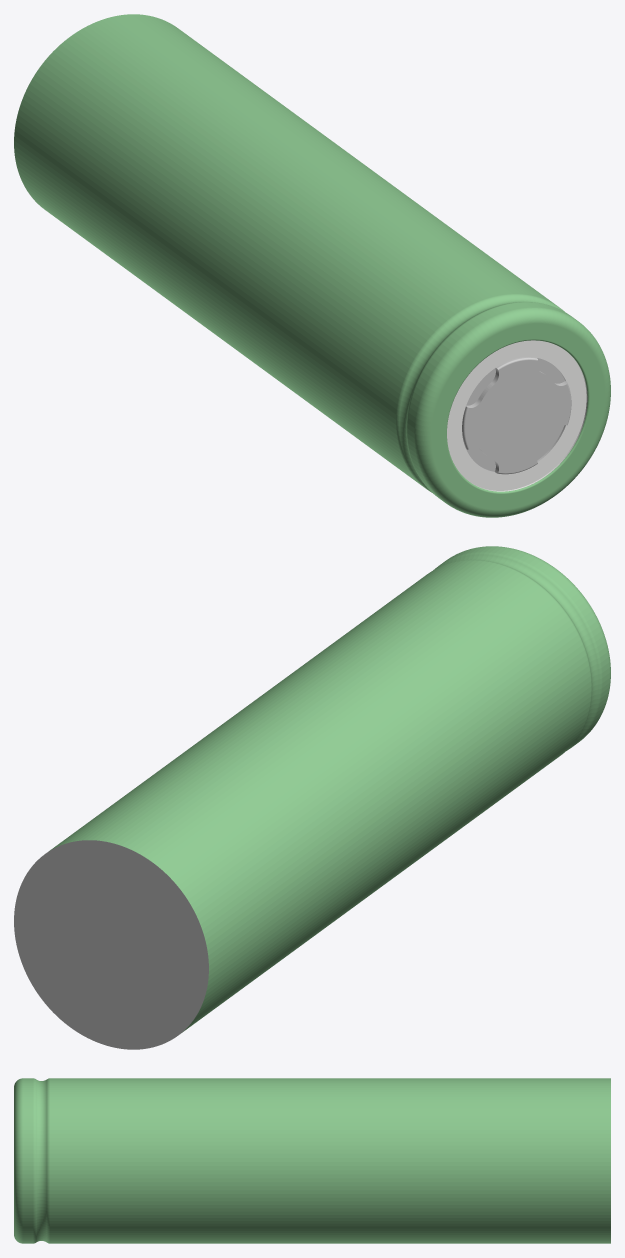
Rendered from 18650 Li-Ion.glb.
3 views of the same model, one above another, from view 1: azimuth 30°, elevation 25°; view 2: azimuth 150°, elevation 25°; view 3: azimuth 270°, elevation 25° (orthographic). The views are drawn at different scales.
Visible parts, largest first — view 1: Node2, Node1, Node3; view 2: Node2, Node1; view 3: Node2.
Boxes of the visible parts, x1,y1,x2,y2 form: Node2: [14, 14, 610, 517]; Node1: [462, 357, 571, 474]; Node3: [447, 340, 587, 491]; Node2: [49, 546, 610, 1032]; Node1: [14, 840, 208, 1049]; Node2: [14, 1078, 610, 1243].
Bounding box in the file's own units: 17.99 × 18 × 65.
